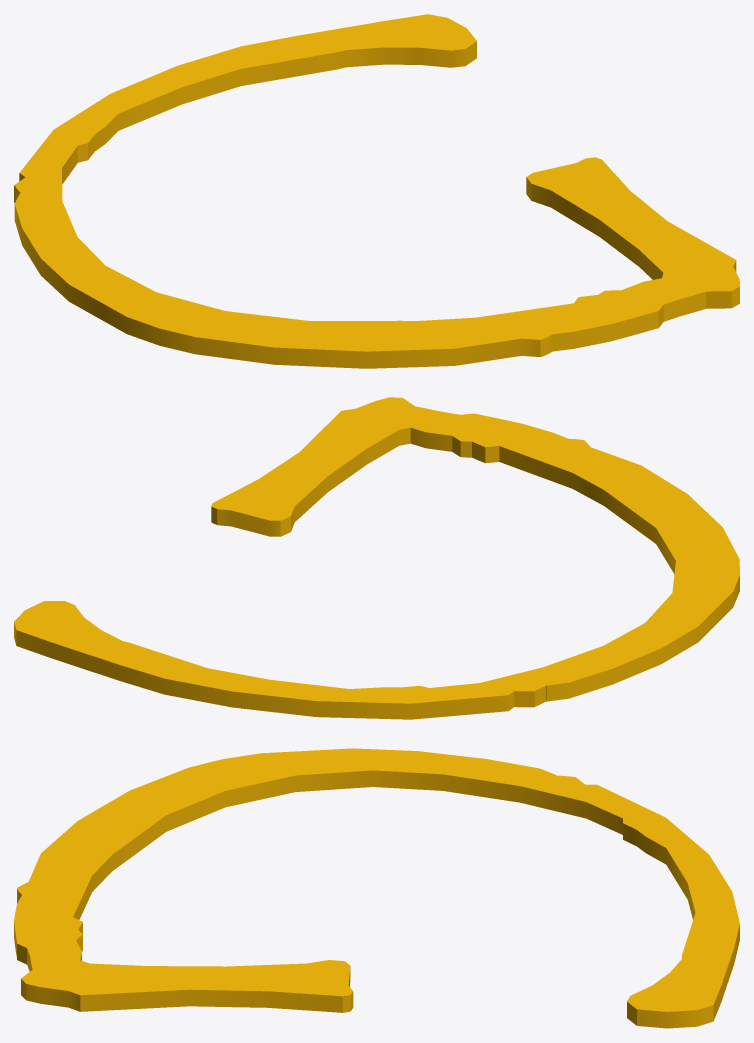
The model's file is original-183.obj.
The picture shows the model from 3 angles, top to bottom: view 1: azimuth 30°, elevation 25°; view 2: azimuth 150°, elevation 25°; view 3: azimuth 270°, elevation 25°; orthographic projection. The views are drawn at different scales.
Visible parts, largest first — view 1: mesh1/mesh1-geometry#mesh1-geometry; view 2: mesh1/mesh1-geometry#mesh1-geometry; view 3: mesh1/mesh1-geometry#mesh1-geometry.
Part boxes in pixels (left/top/right/bottom): mesh1/mesh1-geometry#mesh1-geometry: left=14, top=14, right=739, bottom=368; mesh1/mesh1-geometry#mesh1-geometry: left=14, top=397, right=739, bottom=719; mesh1/mesh1-geometry#mesh1-geometry: left=14, top=748, right=739, bottom=1028.
Bounding box in the file's own units: 0.0154 × 0.000452 × 0.0179.
